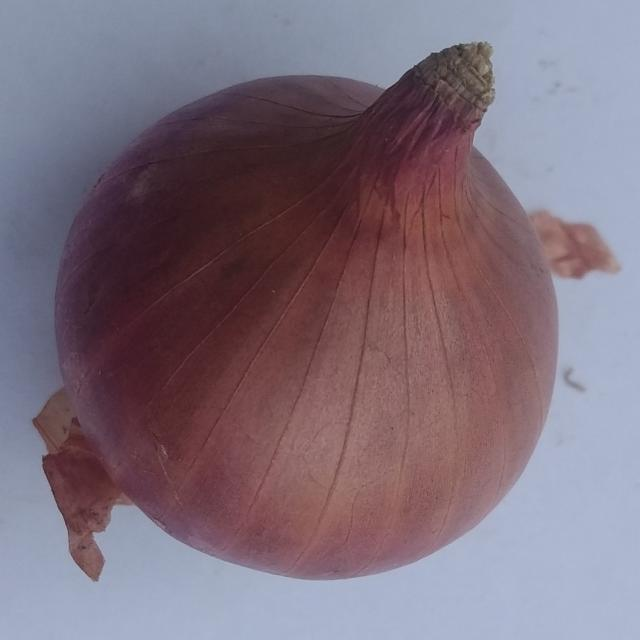onion: (31, 39, 563, 589)
